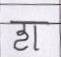ai_matra: (53, 2, 61, 22)
